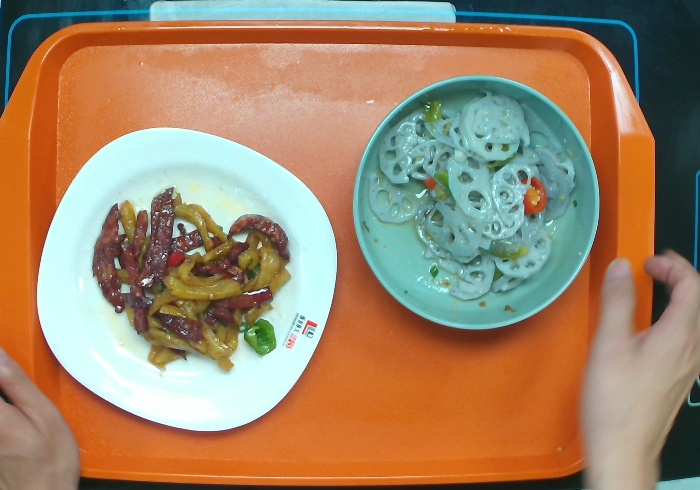ZNLD-Qing_Hua_Yuan_Wan: (354, 76, 601, 336)
ZNLD-Yuan_Jiao_Pan: (33, 124, 337, 433)
